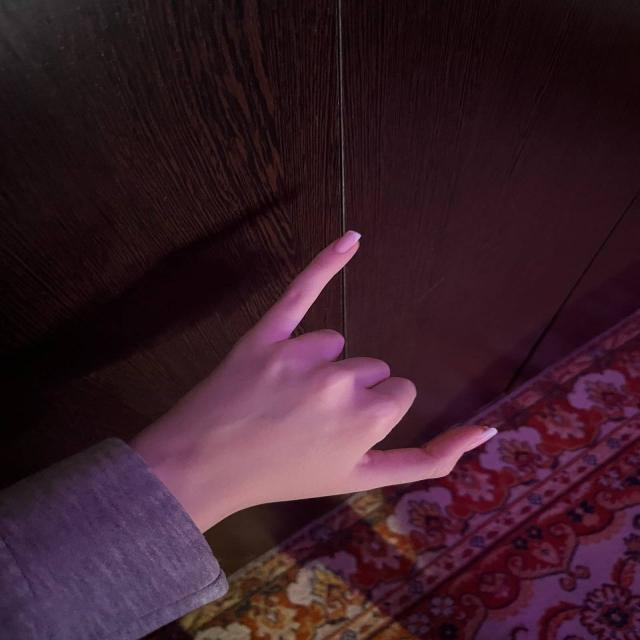u: (204, 203, 516, 500)
